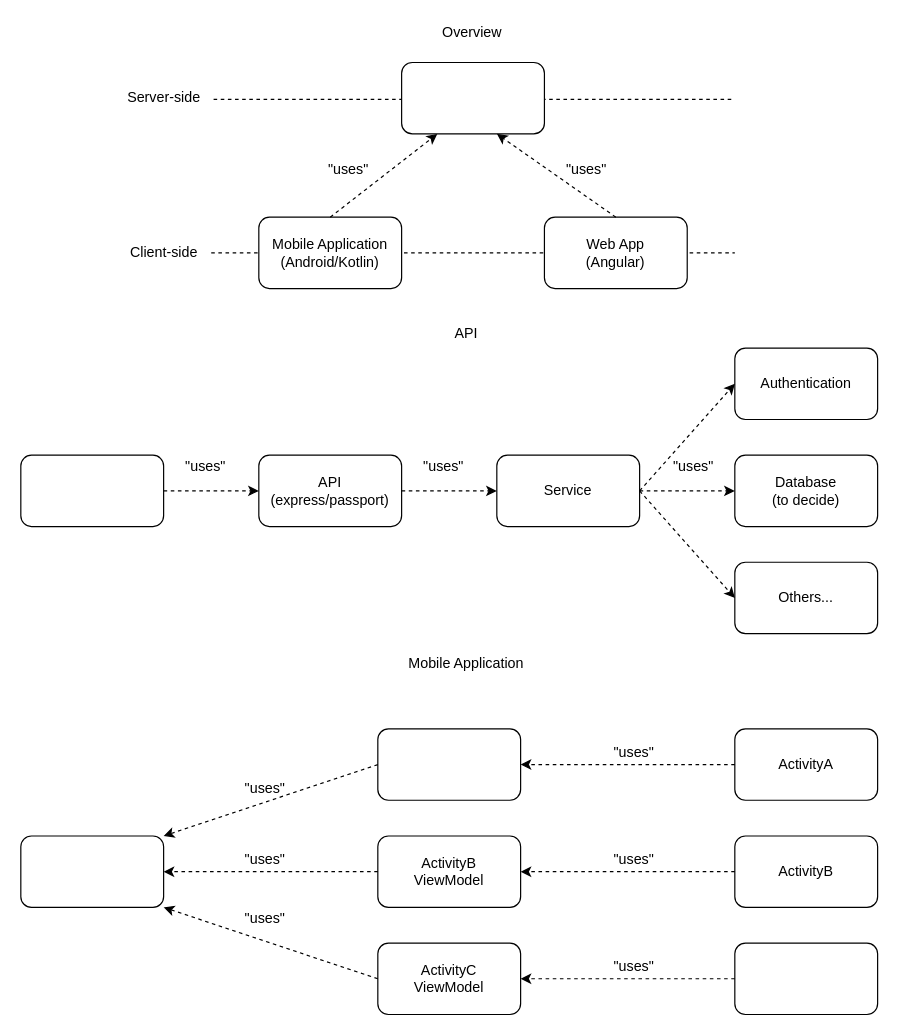
Image size: 898x1035. Some labels were removed from this diagram. Here are the shapes that lost their labels. From the top down, the box of each, then its label:
(400, 61, 544, 134): REST API (Node.js)
(20, 454, 164, 527): Web Server (express)
(377, 728, 521, 800): ActivityA ViewModel
(20, 835, 164, 907): API (Volley)
(734, 942, 878, 1014): ActivityC
